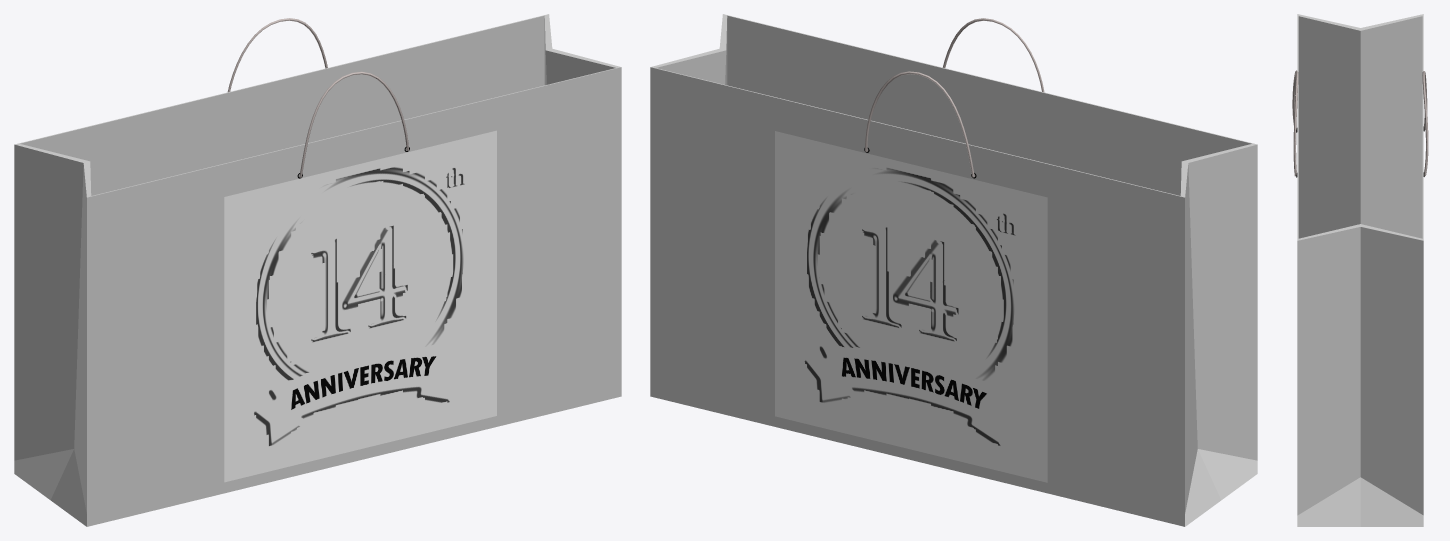
File: NewBagHorizontal2.fbx
The picture shows the model from 3 angles, left to right: view 1: azimuth 30°, elevation 25°; view 2: azimuth 150°, elevation 25°; view 3: azimuth 270°, elevation 25°; orthographic projection. The views are drawn at different scales.
Parts seen in each view (by area): view 1: Cube; view 2: Cube; view 3: Cube.
Boxes of the visible parts, box(x1,y1,x2,y2) form: Cube: box(14, 14, 621, 526); Cube: box(650, 14, 1257, 526); Cube: box(1292, 14, 1428, 526).
Size of the model in its own units: 425 by 296 by 118.
